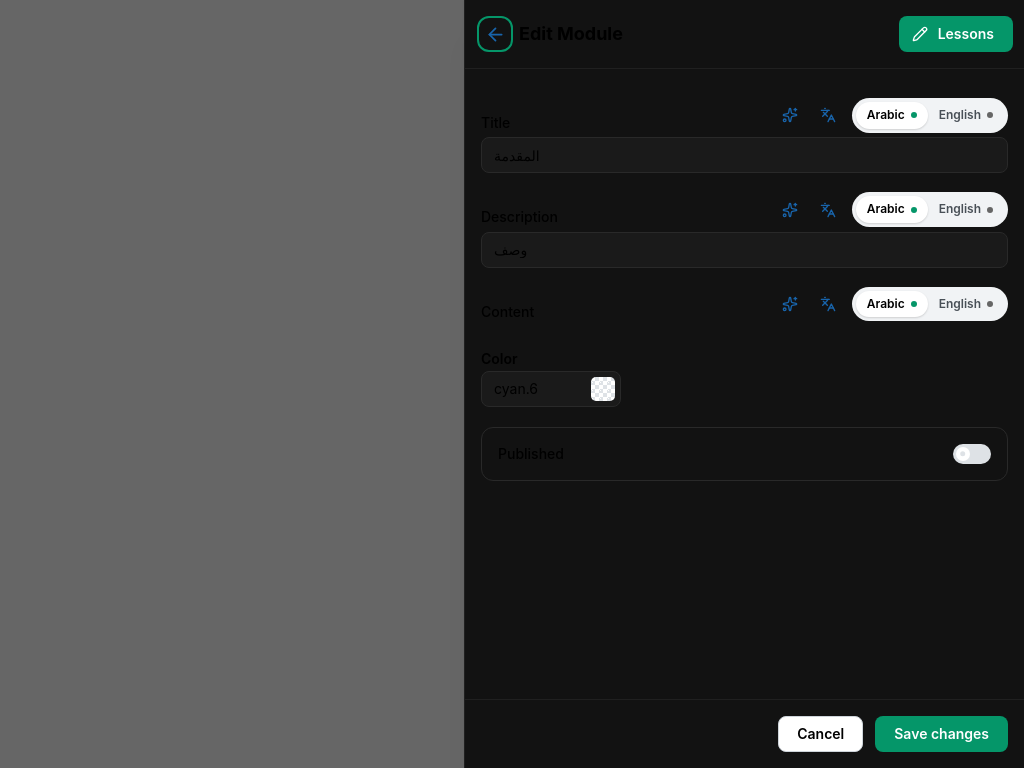
Scenario: EditModuleDrawer › Lessons drawer content (ANA-124) › header has Lessons title, a Back action, and New Lesson on the right -- no separate list header
Click the button "Lessons" at (956, 34), box [899,16,1013,52]
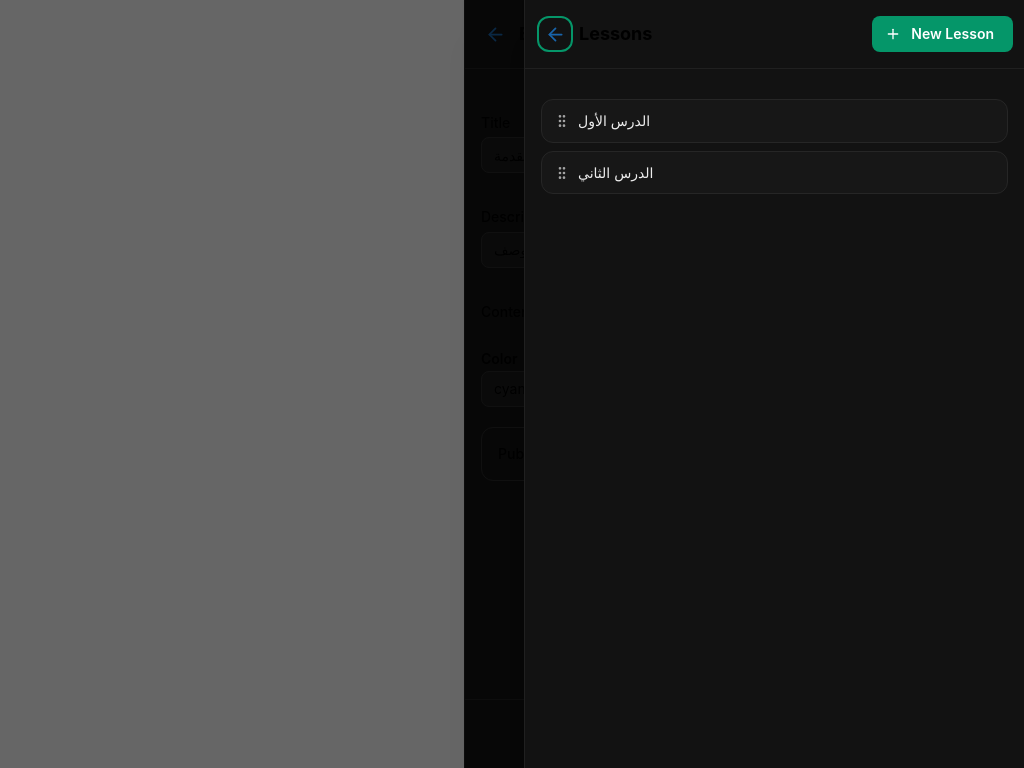
Check: the text "الدرس الأول" is shown, box [578,112,650,129]
Check: the button named "Back" is shown, box [541,20,569,48]
Check: the button "New Lesson" is shown, box [872,16,1013,52]
